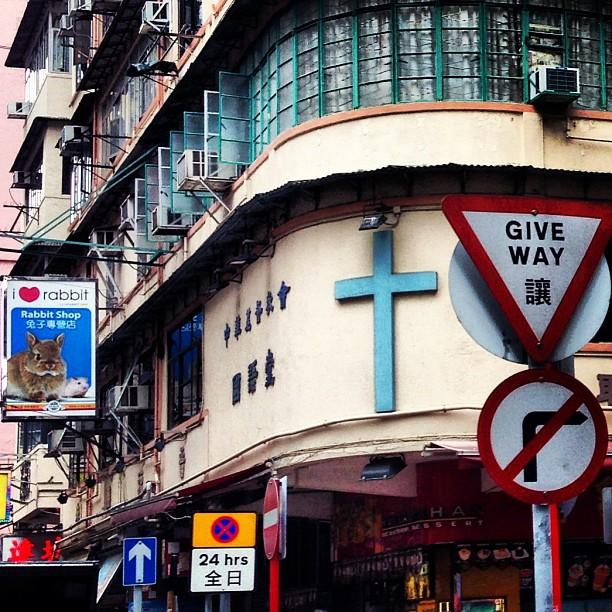no_right_turn: (474, 370, 607, 503)
